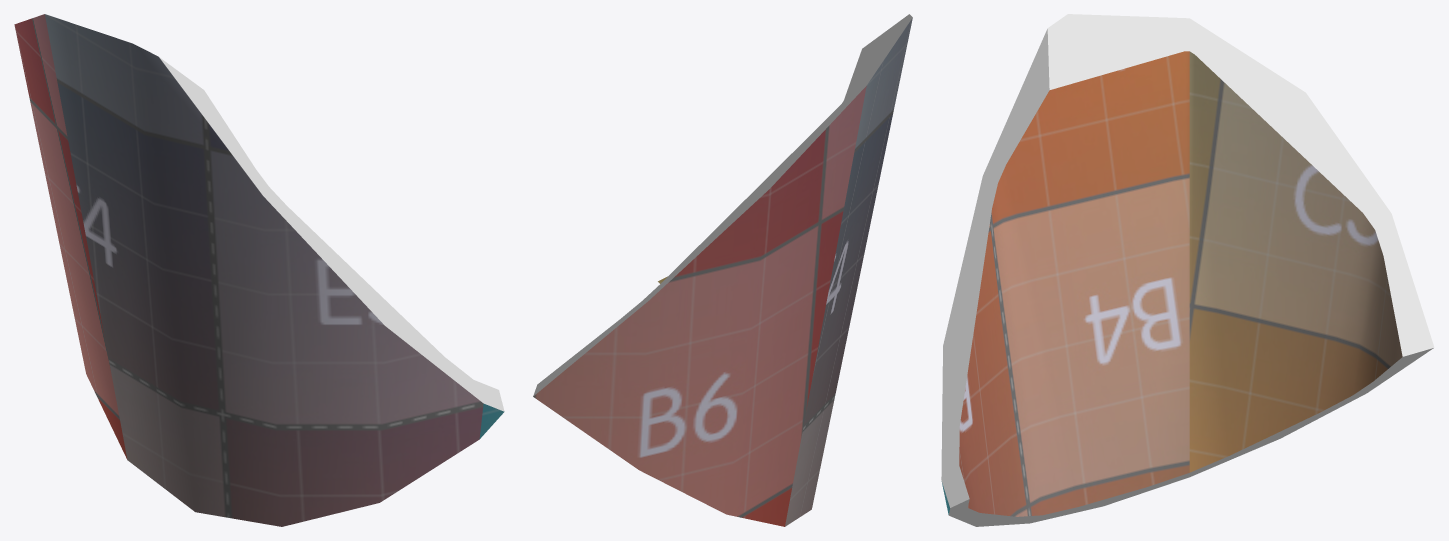
File: MediumVase_SHAT_cell_011.fbx
3 renders of one model, left to right at view 1: azimuth 30°, elevation 25°; view 2: azimuth 150°, elevation 25°; view 3: azimuth 270°, elevation 25°, orthographic. The views are drawn at different scales.
Parts seen in each view (by area): view 1: MediumVase_SHAT_cell_011; view 2: MediumVase_SHAT_cell_011; view 3: MediumVase_SHAT_cell_011.
Part boxes in pixels (x1,y1,x2,y2): MediumVase_SHAT_cell_011: [14, 14, 504, 526]; MediumVase_SHAT_cell_011: [533, 14, 912, 526]; MediumVase_SHAT_cell_011: [941, 14, 1434, 526].
Bounding box in the file's own units: 0.5903 × 0.8529 × 0.8361.
Materials: 2 (1 with a texture image).
